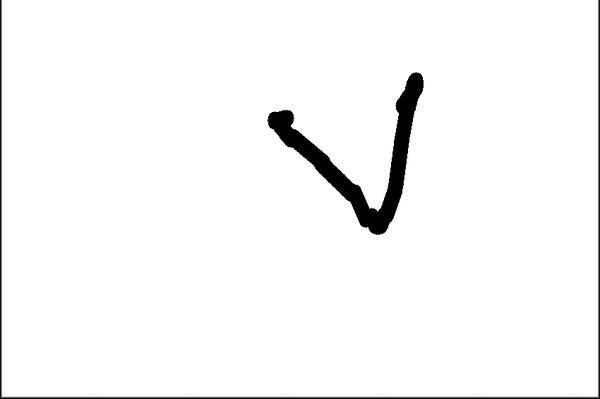V: (256, 60, 444, 237)
